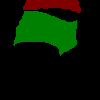abbigliamento: (23, 0, 81, 13)
mutande: (13, 11, 77, 56)
